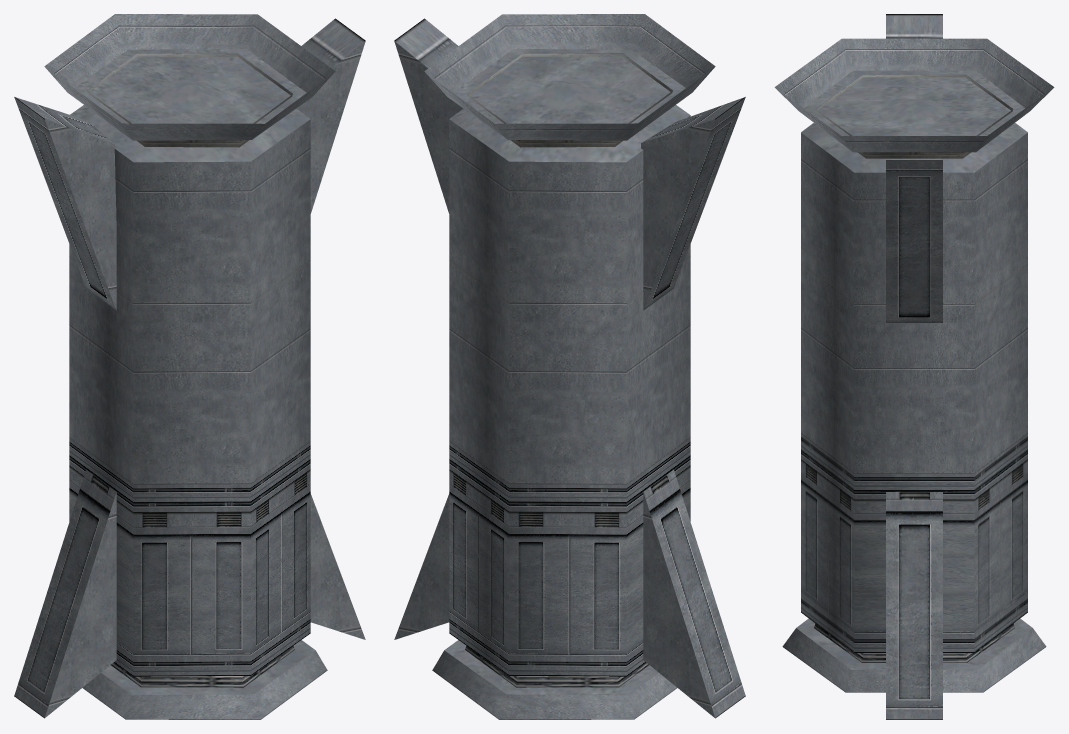
File: poi_all_impl_bunker_pillar_s04_l2.fbx
3 renders of one model, left to right at view 1: azimuth 30°, elevation 25°; view 2: azimuth 150°, elevation 25°; view 3: azimuth 270°, elevation 25°, orthographic. The views are drawn at different scales.
Visible parts, largest first — view 1: mesh_node; view 2: mesh_node; view 3: mesh_node.
Boxes of the visible parts, x1=… form: mesh_node: x1=14, y1=14, x2=365, y2=719; mesh_node: x1=394, y1=14, x2=745, y2=719; mesh_node: x1=774, y1=14, x2=1054, y2=719.
Bounding box in the file's own units: 3.04 × 5.43 × 2.46.
